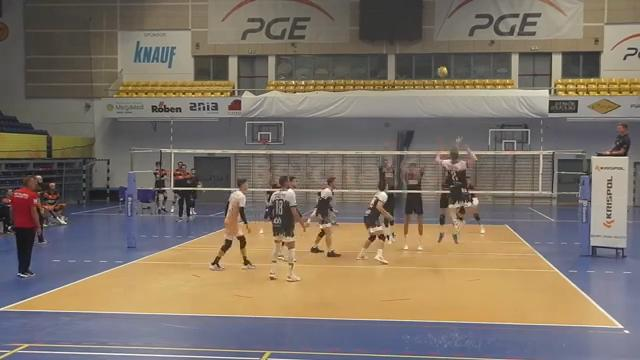attacco: (434, 136, 477, 242)
muro: (401, 151, 426, 256)
